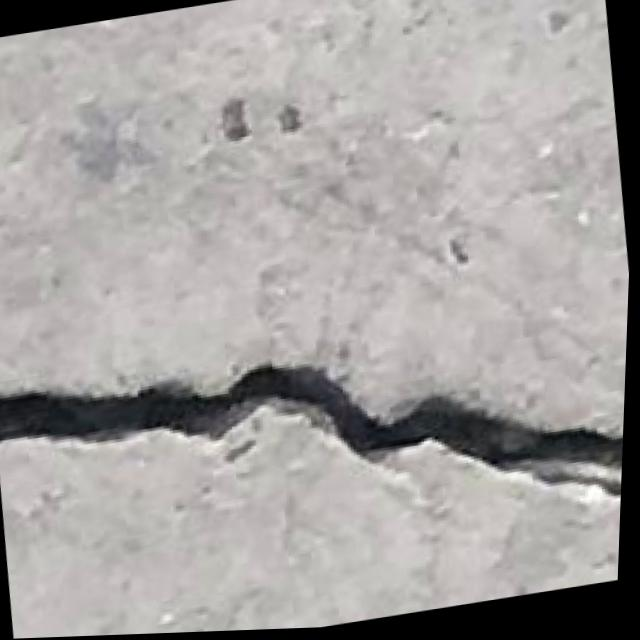Crack: (0, 275, 631, 629)
